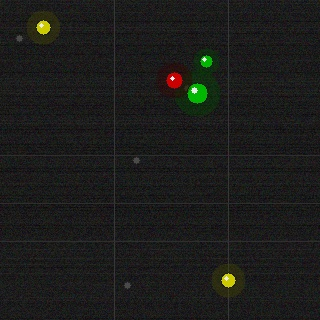green_normal: (185, 81, 209, 105), (198, 53, 214, 69)
red_fault: (164, 70, 184, 90)
yellow_warning: (34, 18, 52, 36), (219, 271, 237, 289)
